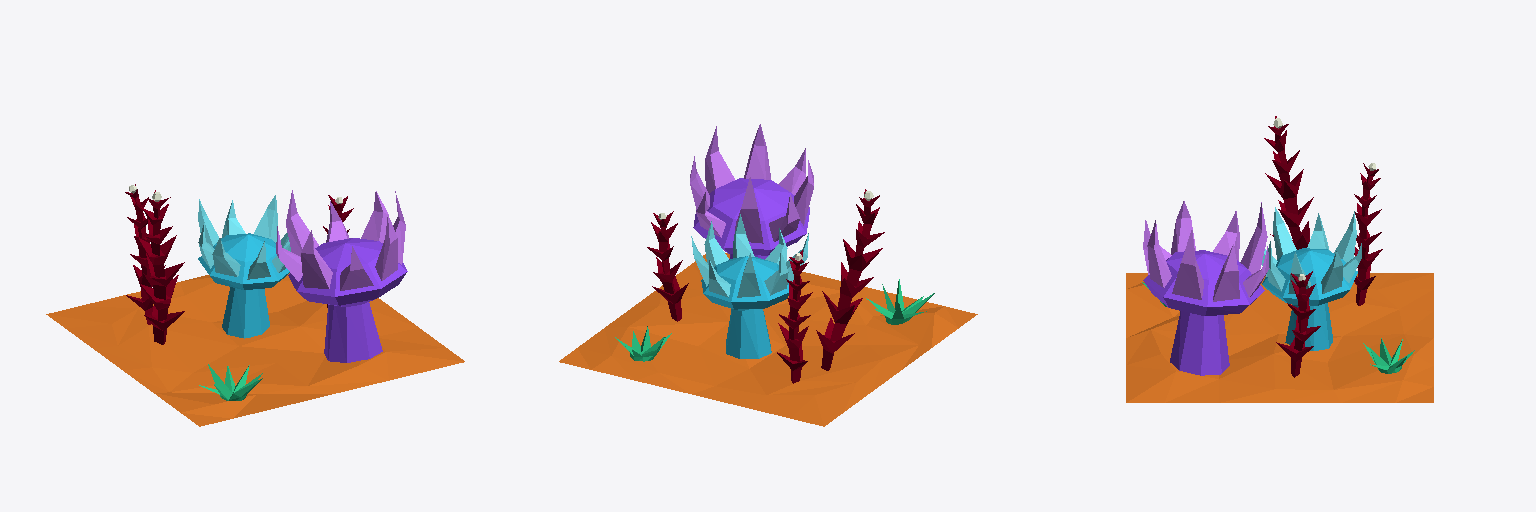
The picture shows the model from 3 angles: view 1: azimuth 30°, elevation 25°; view 2: azimuth 150°, elevation 25°; view 3: azimuth 270°, elevation 25°; orthographic projection.
Visible parts, largest first — view 1: Circle.007_Circle.001; view 2: Circle.007_Circle.001; view 3: Circle.007_Circle.001.
Part boxes in pixels (x1,y1,x2,y2): Circle.007_Circle.001: (46, 184, 464, 426); Circle.007_Circle.001: (559, 124, 977, 426); Circle.007_Circle.001: (1126, 116, 1433, 402).
Bounding box in the file's own units: 2 × 1.26 × 2.
Materials: 1 (1 with a texture image).